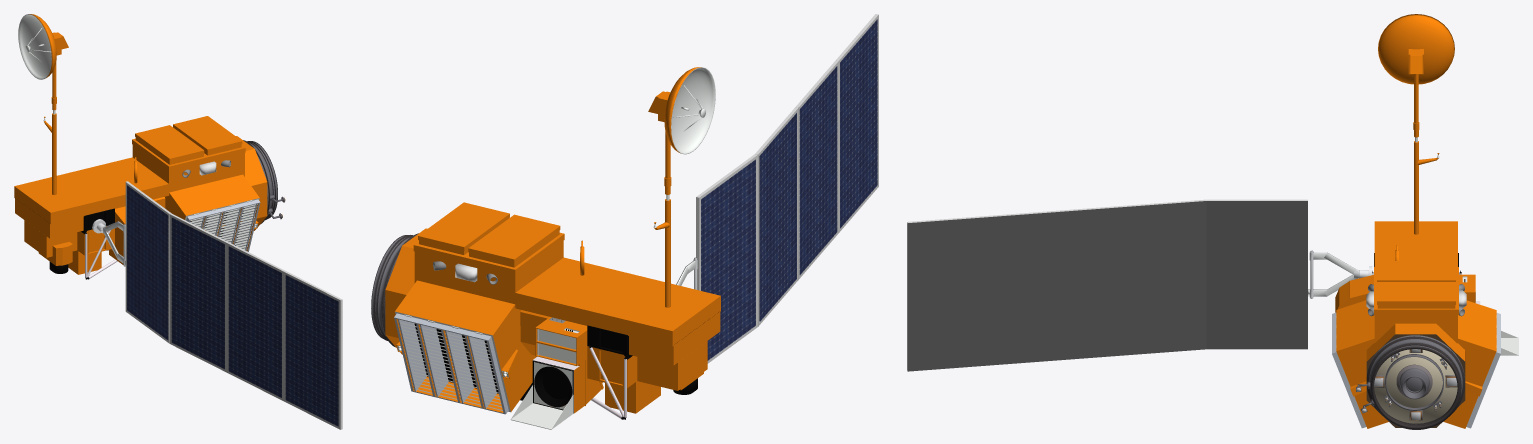
The model's file is landsat45.glb.
3 renders of one model, left to right at view 1: azimuth 30°, elevation 25°; view 2: azimuth 150°, elevation 25°; view 3: azimuth 270°, elevation 25°, orthographic. The views are drawn at different scales.
Visible parts, largest first — view 1: Cube.017, Cube.013, Cube.015, TM_Panels_1.004, Cube.004, TM_Body.002, Cylinder.007; view 2: Cube.013, Cube.017, Cube.015, TM_Panels_1.004, Cube.004, TM_Body.002, Cylinder.007; view 3: Cube.015, Cube.013, TM_Panels_1.004, Cube.004.
Part boxes in pixels (bbox=[...]): Cube.017: bbox=[127, 185, 338, 426]; Cube.013: bbox=[14, 14, 267, 274]; Cube.015: bbox=[18, 14, 342, 429]; TM_Panels_1.004: bbox=[186, 199, 260, 251]; Cube.004: bbox=[33, 160, 244, 279]; TM_Body.002: bbox=[190, 204, 257, 249]; Cylinder.007: bbox=[85, 230, 117, 278]; Cube.013: bbox=[385, 67, 720, 429]; Cube.017: bbox=[701, 19, 877, 360]; Cube.015: bbox=[371, 14, 878, 412]; TM_Panels_1.004: bbox=[394, 313, 508, 414]; Cube.004: bbox=[414, 257, 718, 419]; TM_Body.002: bbox=[398, 320, 573, 429]; Cylinder.007: bbox=[533, 347, 626, 418]; Cube.015: bbox=[907, 19, 1496, 429]; Cube.013: bbox=[1335, 14, 1496, 428]; TM_Panels_1.004: bbox=[1332, 312, 1500, 428]; Cube.004: bbox=[1308, 250, 1465, 316].
Size of the model in its own units: 1.59 by 1.79 by 3.17.
Materials: 8 (6 with a texture image).
